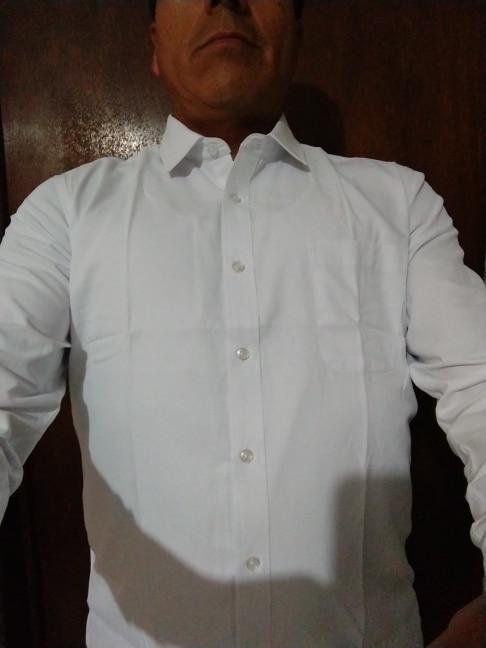shirts: (18, 122, 482, 648)
